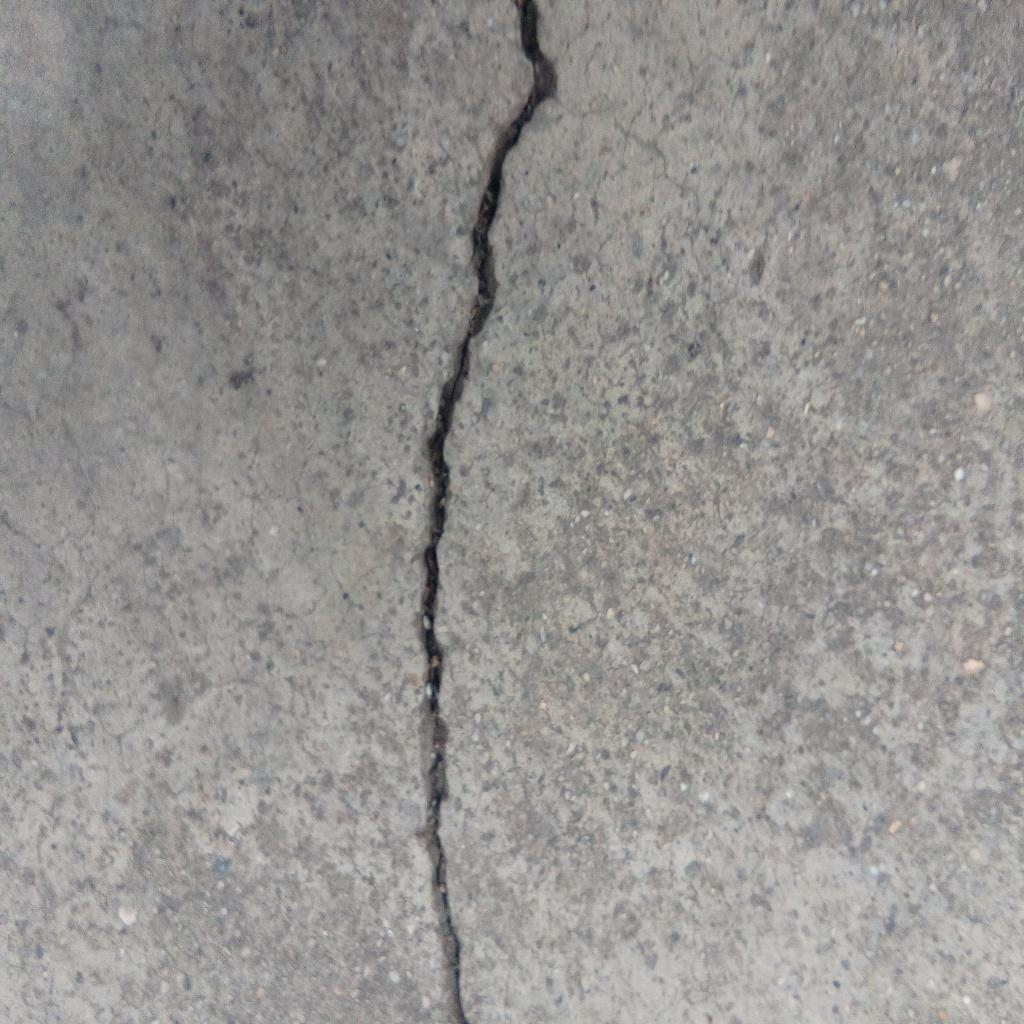Crack: (416, 1, 556, 1024)
